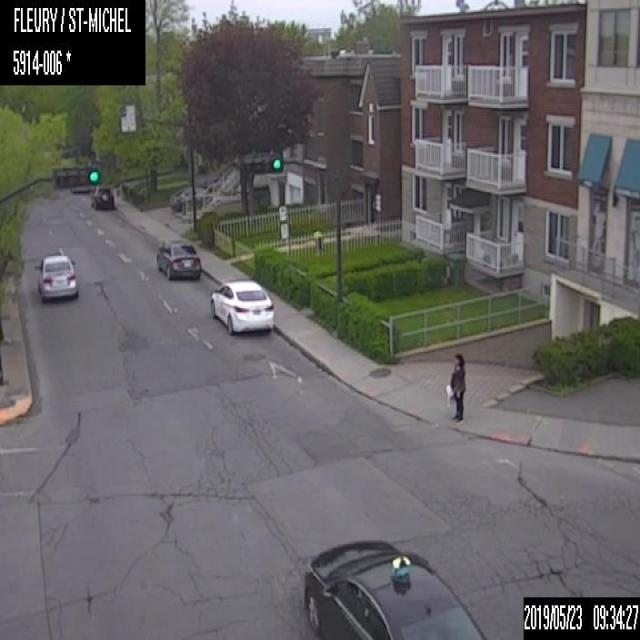pedestrian: (446, 349, 466, 428)
vehicle: (299, 536, 487, 639), (208, 276, 276, 333), (34, 253, 79, 303), (152, 240, 202, 280), (168, 185, 204, 212), (88, 182, 116, 210)
